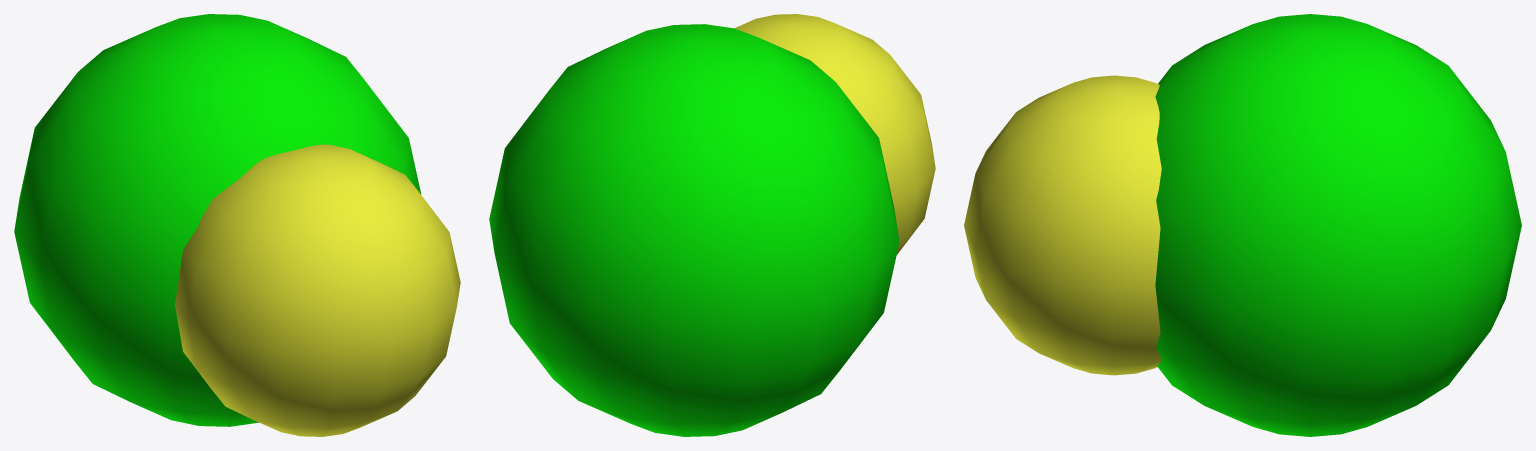
Rendered from NaCl.fbx.
3 views of the same model, side by side, from view 1: azimuth 30°, elevation 25°; view 2: azimuth 150°, elevation 25°; view 3: azimuth 270°, elevation 25° (orthographic). The views are drawn at different scales.
Visible parts, largest first — view 1: NaCl.001; view 2: NaCl.001; view 3: NaCl.001.
Part boxes in pixels (box(x1,y1,x2,y2)): NaCl.001: box(14, 14, 460, 436); NaCl.001: box(489, 14, 935, 436); NaCl.001: box(964, 14, 1521, 436).
Bounding box in the file's own units: 200 × 200 × 264.
